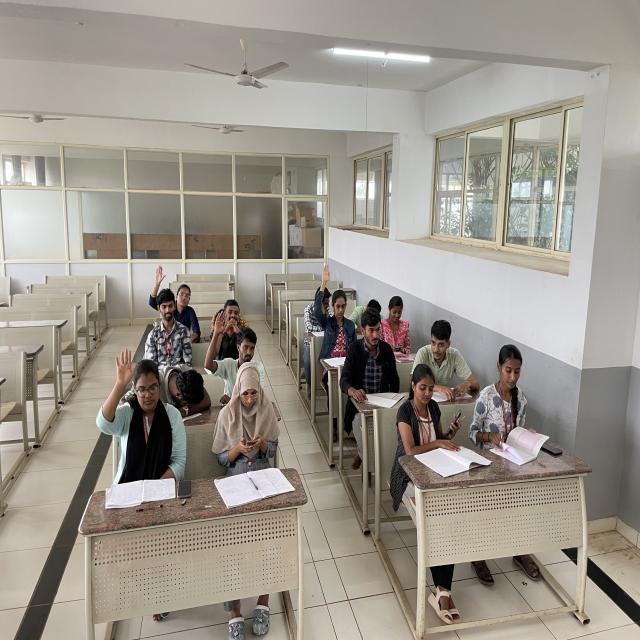Hand Rising: (95, 348, 192, 512), (204, 310, 266, 392), (313, 260, 357, 352), (147, 264, 200, 318)
Reading: (343, 308, 402, 410), (143, 288, 196, 372), (418, 318, 471, 392)
Sleeping: (158, 357, 218, 424), (349, 297, 385, 323)
Using Phone: (209, 360, 298, 506), (394, 361, 463, 473), (380, 291, 416, 358)
Writing: (468, 341, 558, 465)
